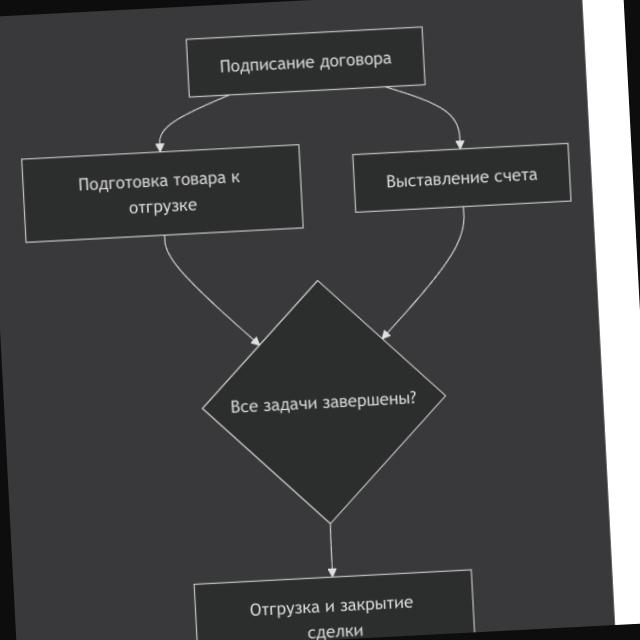arrow: (382, 208, 465, 339), (164, 237, 259, 345), (387, 86, 464, 148), (156, 96, 227, 151), (328, 524, 336, 576)
diamond: (204, 282, 443, 522)
rectangle: (21, 145, 303, 242), (186, 26, 425, 96), (353, 144, 570, 212)
